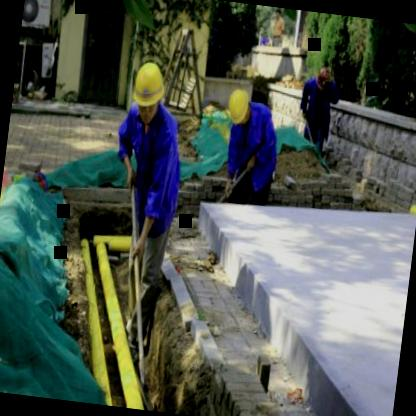helmet: (128, 53, 168, 122), (221, 84, 251, 126), (312, 62, 334, 96)
